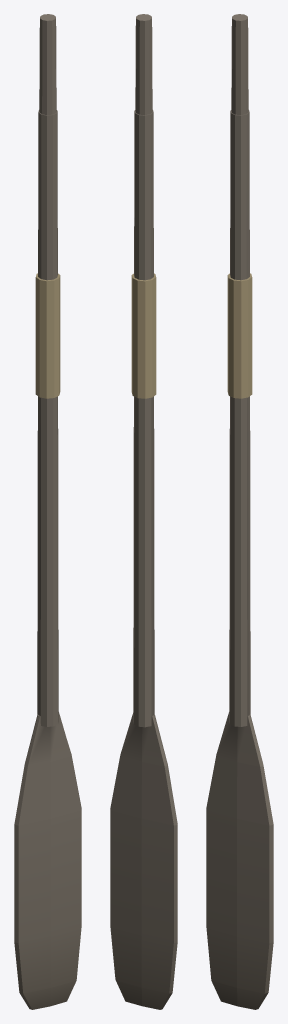
The model's file is boat_paddle.glb.
3 views of the same model, side by side, from view 1: azimuth 30°, elevation 25°; view 2: azimuth 150°, elevation 25°; view 3: azimuth 330°, elevation 25° (orthographic).
Visible parts, largest first — view 1: boat_paddle_LOD0; view 2: boat_paddle_LOD0; view 3: boat_paddle_LOD0.
Boxes of the visible parts, x1,y1,x2,y2 form: boat_paddle_LOD0: (14,14,81,1009); boat_paddle_LOD0: (110,14,177,1009); boat_paddle_LOD0: (206,14,273,1009).
Size of what is drawn, in the model's own units: 0.15 by 2.1 by 0.048.
